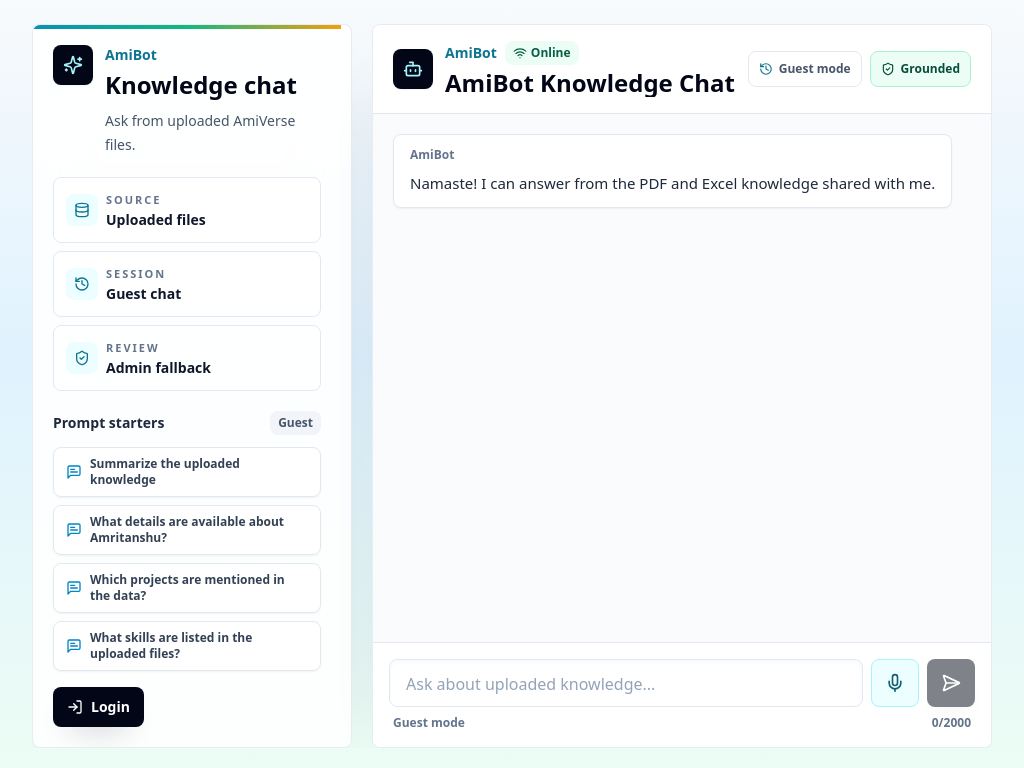
Test: an unknown guest question is displayed without a false source or admin badge
The image size is (1024, 768).
Type "When will the next project launch?" into the text box named "type your message" at (626, 683), box [389,659,863,707]
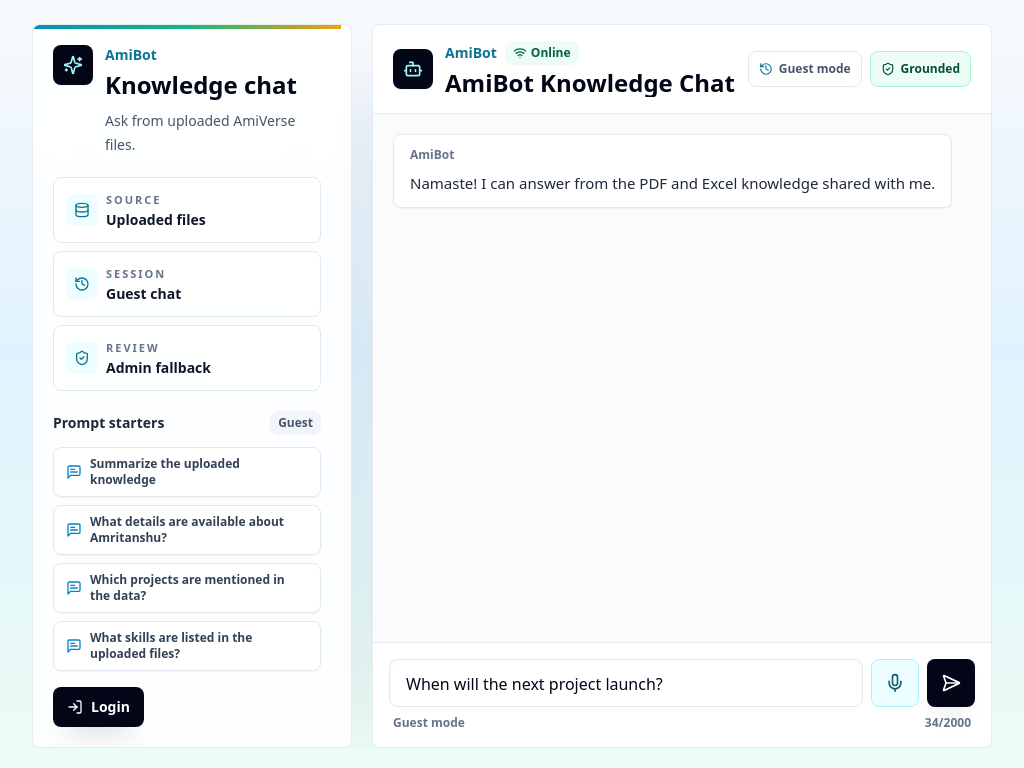
Click the button named "send message" at (951, 683), box [927,659,975,707]
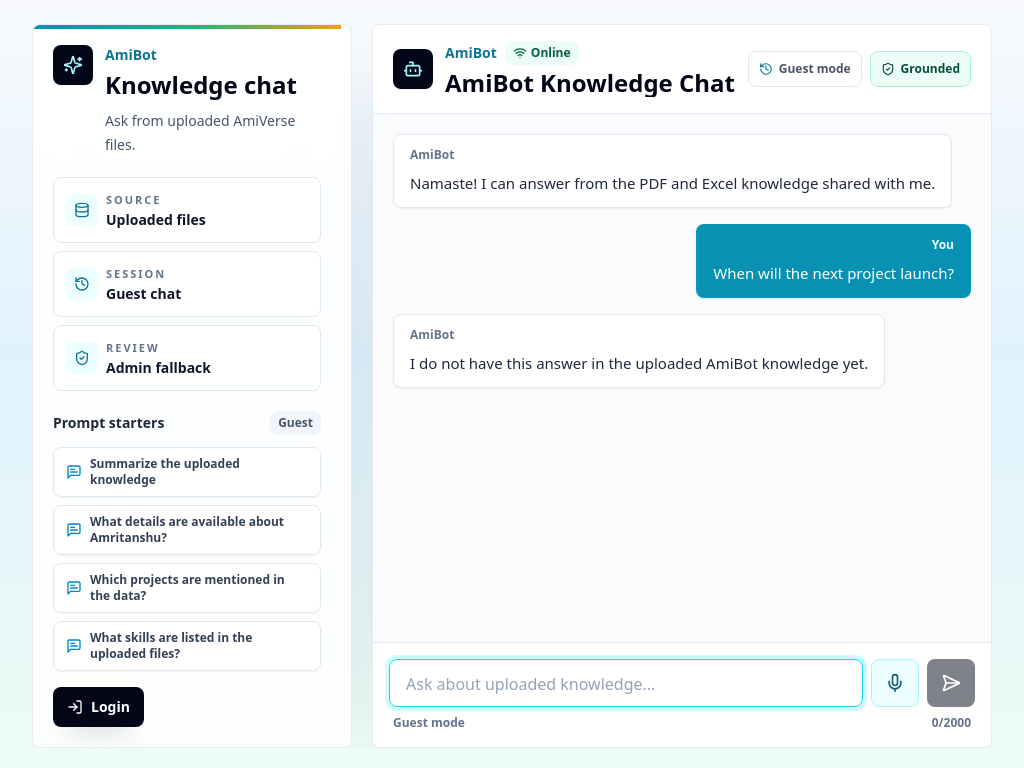
Result: the text "I do not have this answer in the uploaded AmiBot knowledge yet." is shown at [410,351,868,375]
